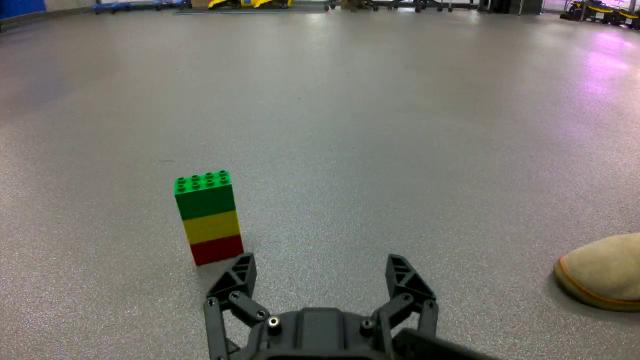lego: (173, 169, 244, 267)
